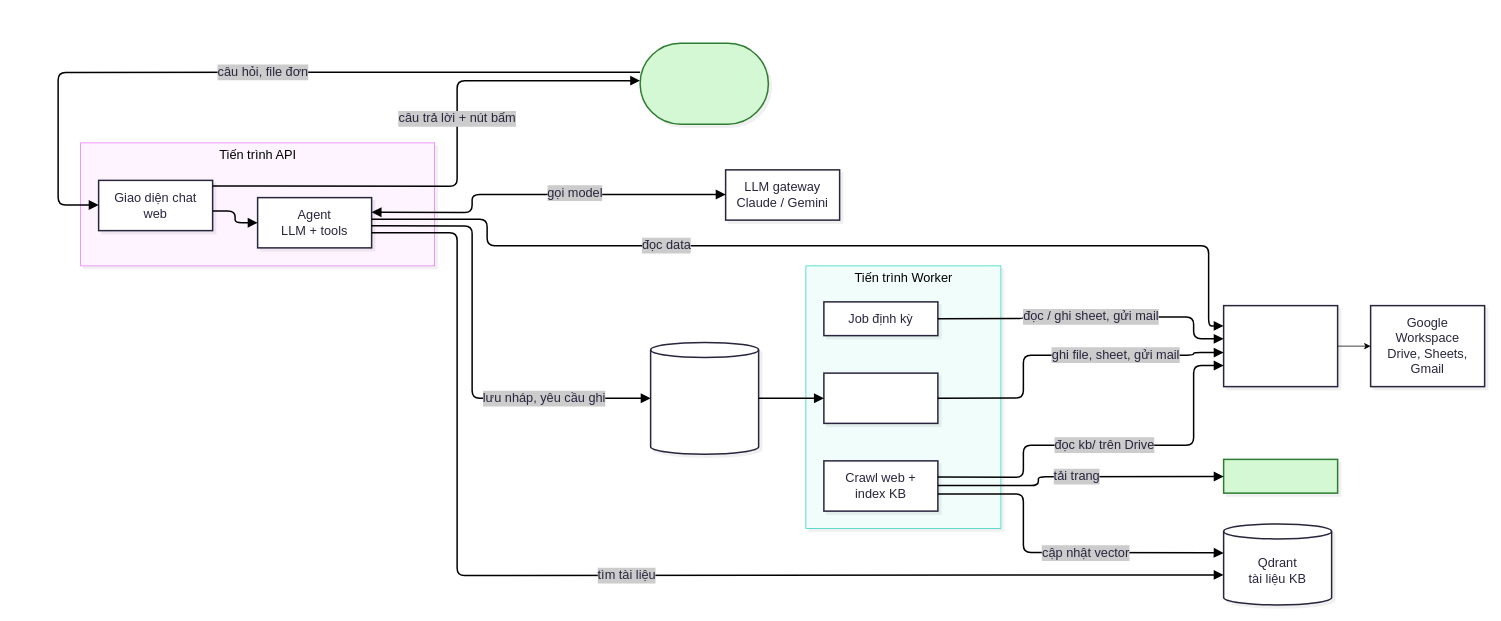
This 1501x621 diagram has some shape labels left out. Each missing label, with the centre of its shape:
Hàng đợi ghi outbox: the point at 882,399
MCP: the point at 1281,347
Postgres hội thoại, bản nháp, outbox, log: the point at 706,399
Website lab: the point at 1281,477
👤 Người dùng khách, thành viên, thư ký, leader, admin: the point at 705,85
